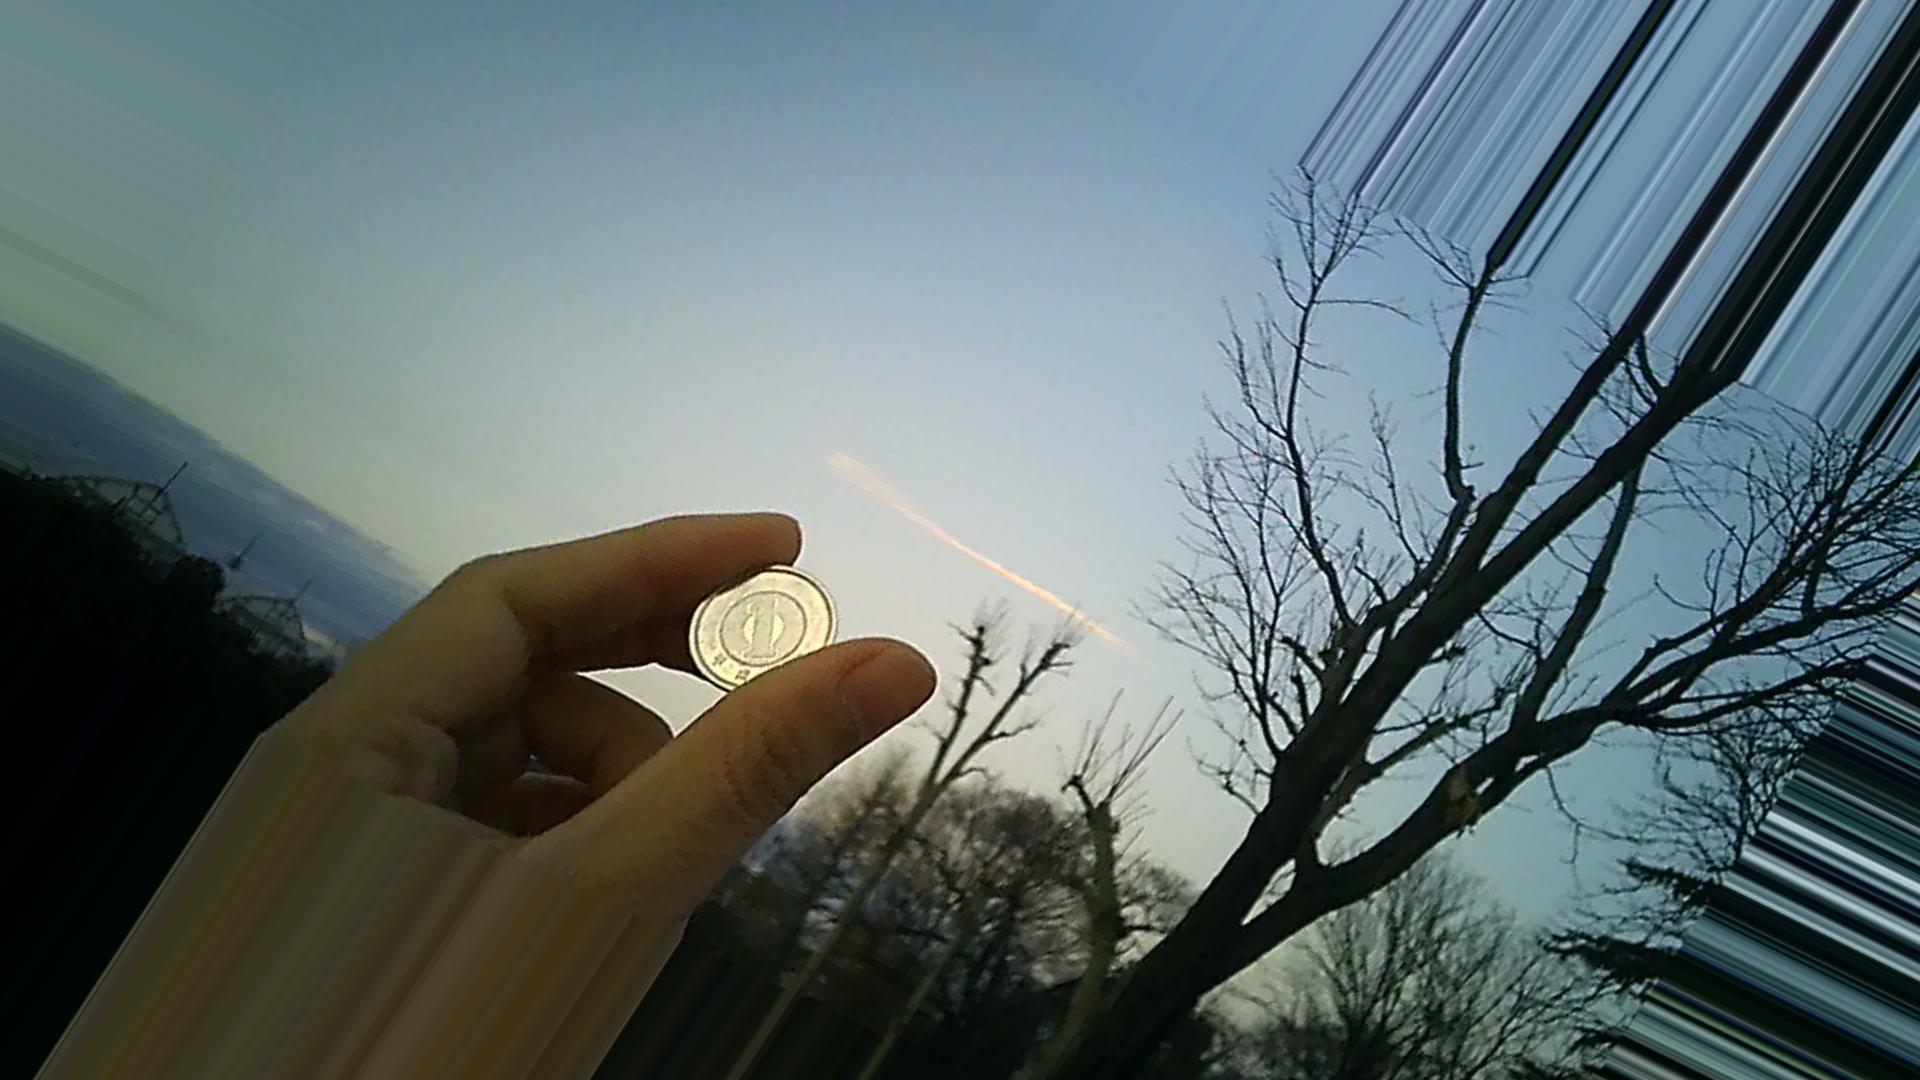1 Yen: (686, 545, 837, 691)
